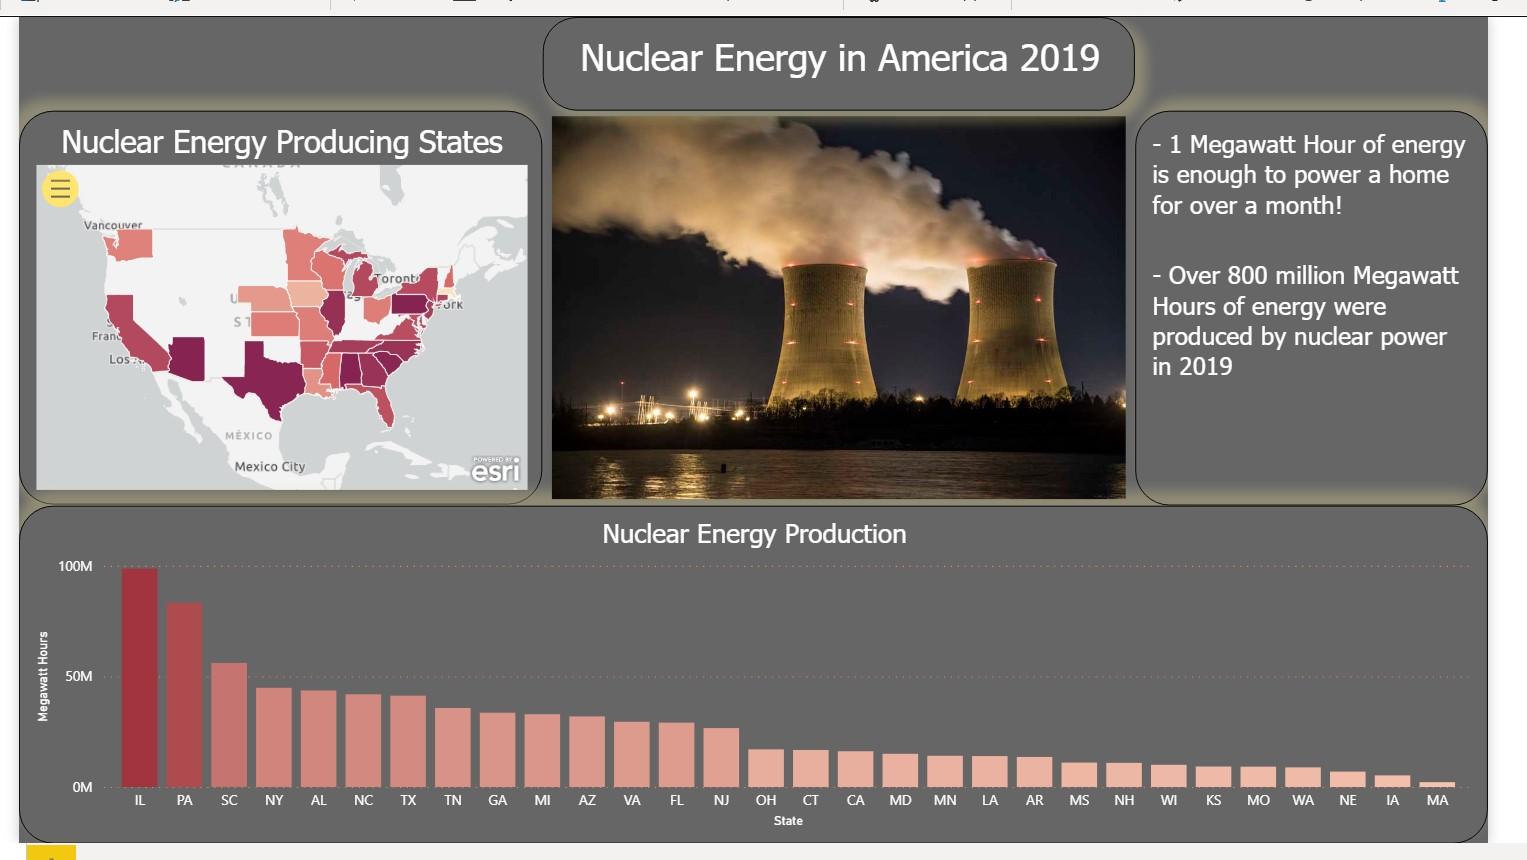

Layout of this report page (visuals, bound fields, positions):
{"tool":"powerbi","page":{"name":"Page 1","canvas":[1280,720],"ordinal":0},"visuals":[{"type":"esriVisual","title":"Nuclear Energy Producing States","fields":{"Color":["Sum(Unit Generation.Year_to_Date)"],"Location":["Unit Generation.State Hierarchy.State"],"Time":["Unit Generation.State Hierarchy.Plant Name"]},"box":[0,81.7,456.4,343.1],"z":0},{"type":"columnChart","title":"Nuclear Energy Production","fields":{"Y":["Sum(Unit Generation.Year_to_Date)"],"Category":["Unit Generation.State Hierarchy.State","Unit Generation.State Hierarchy.Plant Name","Unit Generation.State Hierarchy.Unit ID"]},"box":[0,425.9,1279.9,294.1],"z":1000},{"type":"image","box":[456.4,81.7,516.3,343.1],"z":2000},{"type":"textbox","box":[456.4,0,516.3,81.7],"z":3000},{"type":"textbox","box":[973.1,81.2,306.9,344.1],"z":4000}]}

Visuals, with their boxes in screenshot pixels (x1, y1, x2, y2):
"Nuclear Energy Producing States" esriVisual: box=[32, 113, 550, 502]
"Nuclear Energy Production" columnChart: box=[32, 503, 1484, 837]
image: box=[550, 113, 1136, 502]
textbox: box=[550, 20, 1136, 113]
textbox: box=[1136, 112, 1484, 502]
